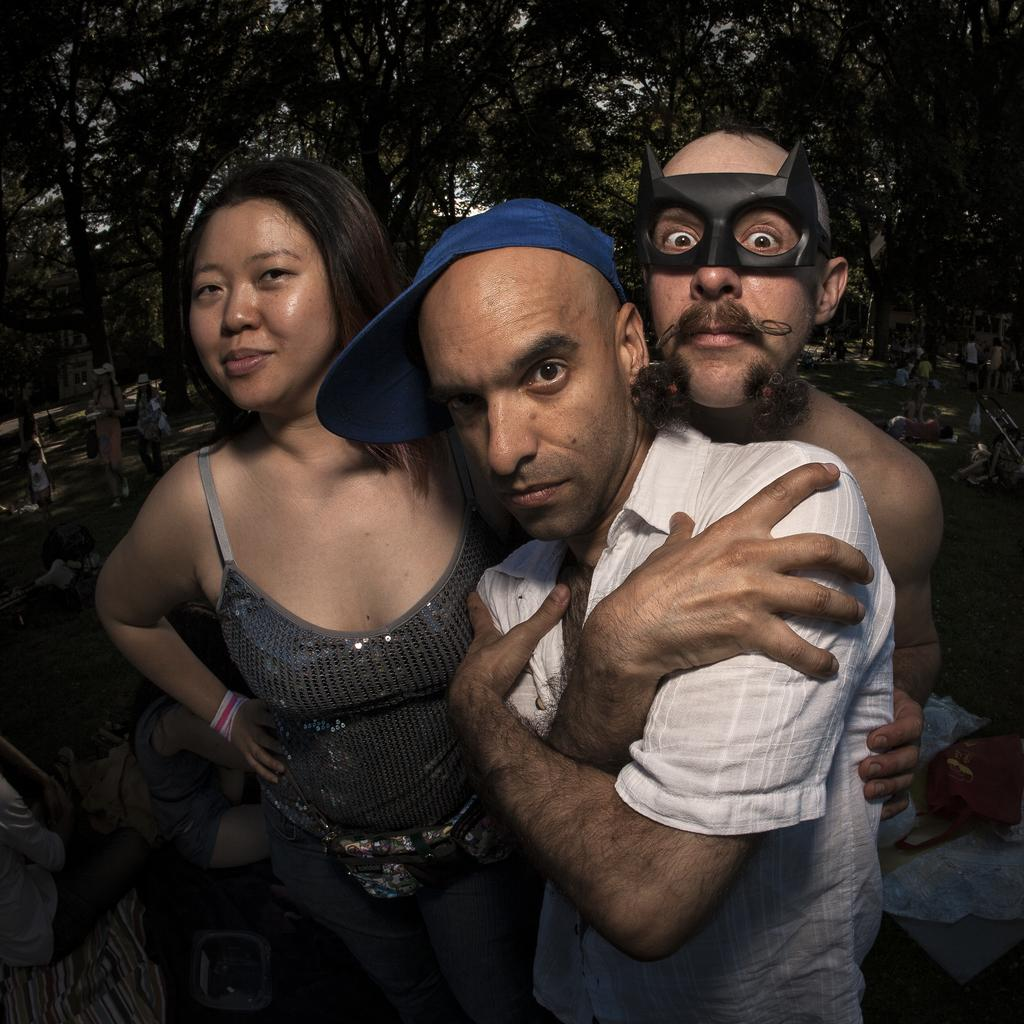Sem Máscara: (416, 264, 626, 532), (650, 137, 810, 408), (186, 202, 336, 394)
